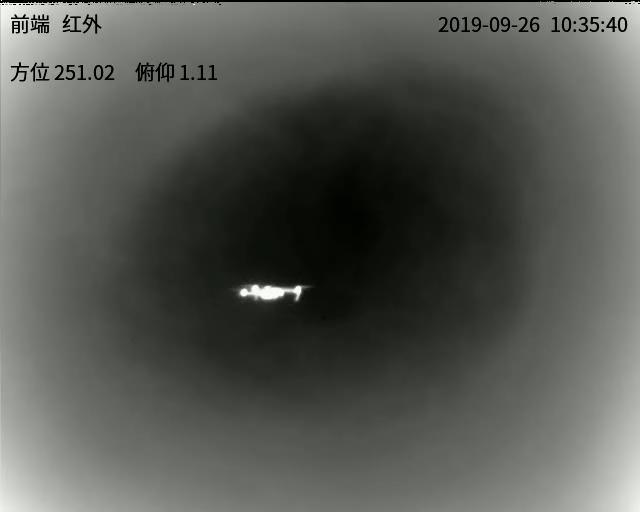uav: (227, 277, 313, 304)
